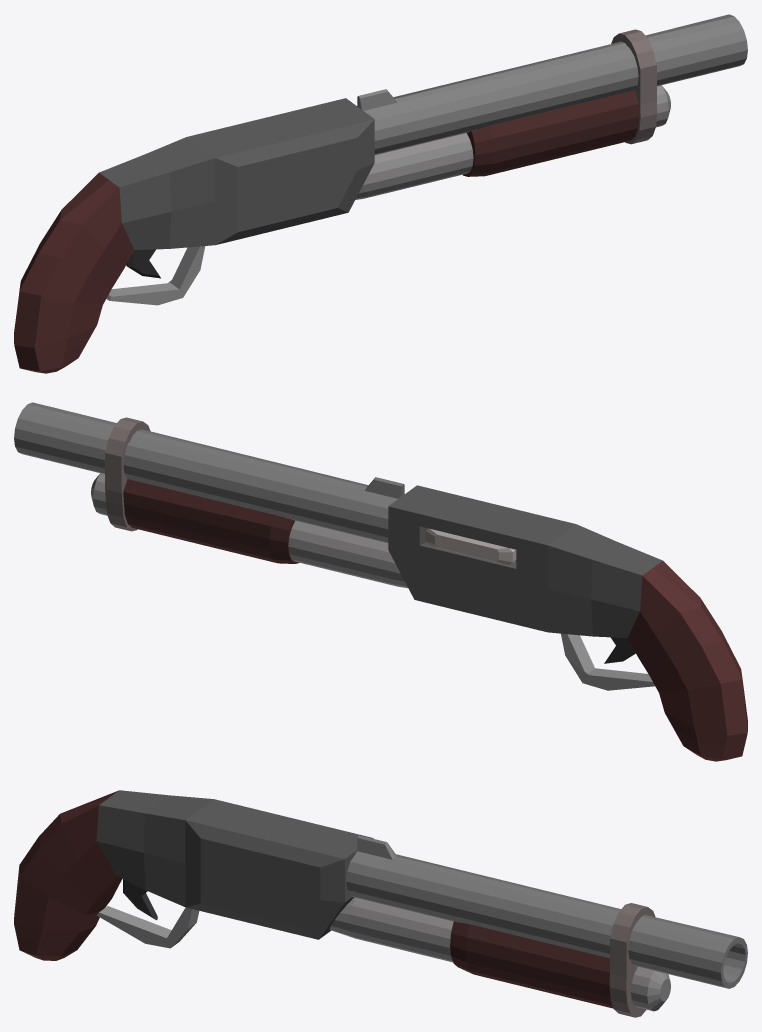
The model's file is shotgun.glb.
The picture shows the model from 3 angles, top to bottom: view 1: azimuth 30°, elevation 25°; view 2: azimuth 150°, elevation 25°; view 3: azimuth 330°, elevation 25°; orthographic projection.
Size of the model in its own units: 8.65 by 2.27 by 0.7022.
